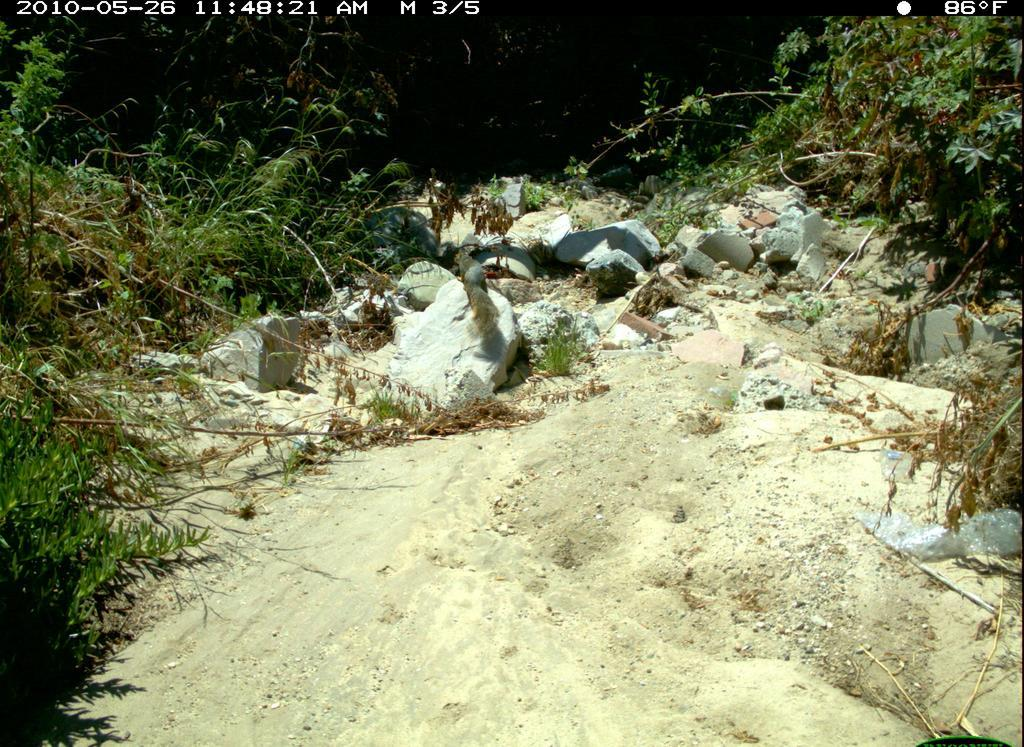squirrel: (444, 236, 514, 351)
